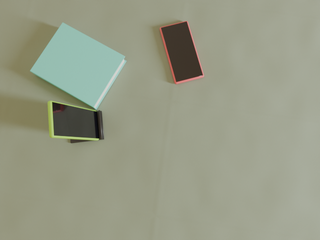book: (30, 23, 126, 109)
phone: (160, 21, 204, 84), (48, 101, 99, 140)
